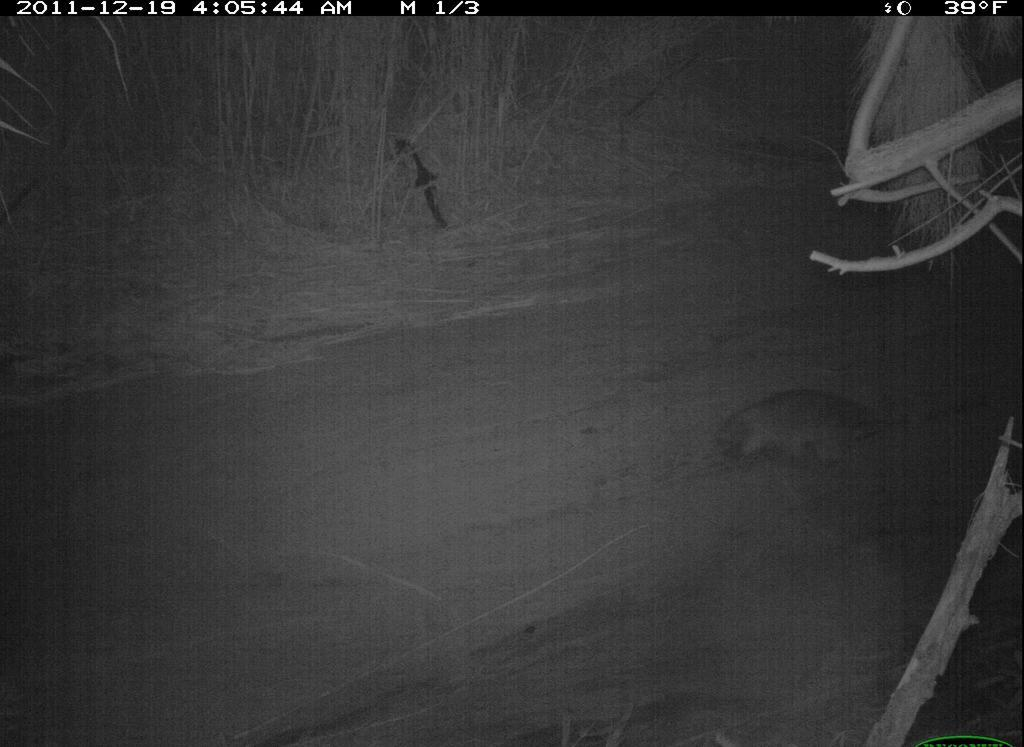raccoon: (696, 374, 917, 489)
